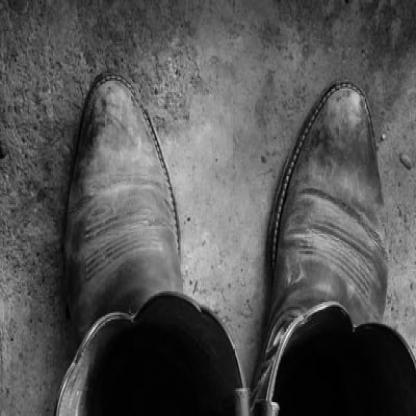ankle: (279, 325, 286, 335), (138, 301, 144, 310)
heel: (175, 401, 183, 412), (259, 395, 264, 403)
left_foot: (63, 76, 187, 416)
pinky: (373, 167, 379, 180), (81, 158, 86, 170)
right_foot: (256, 84, 392, 416)
toe: (316, 124, 324, 136), (130, 106, 137, 118)
